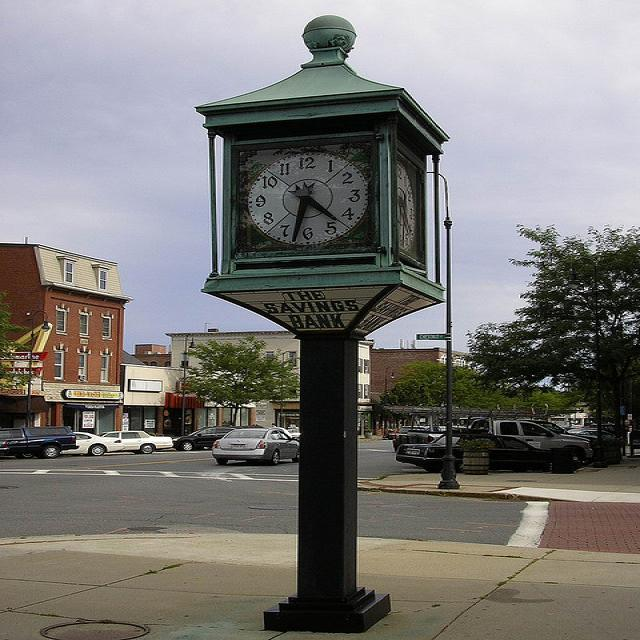Vehicle: (392, 420, 592, 465), (394, 436, 596, 474), (212, 427, 300, 466), (0, 426, 81, 460), (1, 426, 77, 458), (97, 431, 174, 455), (172, 427, 235, 451), (61, 432, 110, 457), (524, 421, 578, 436), (386, 426, 430, 440), (576, 430, 617, 439)
